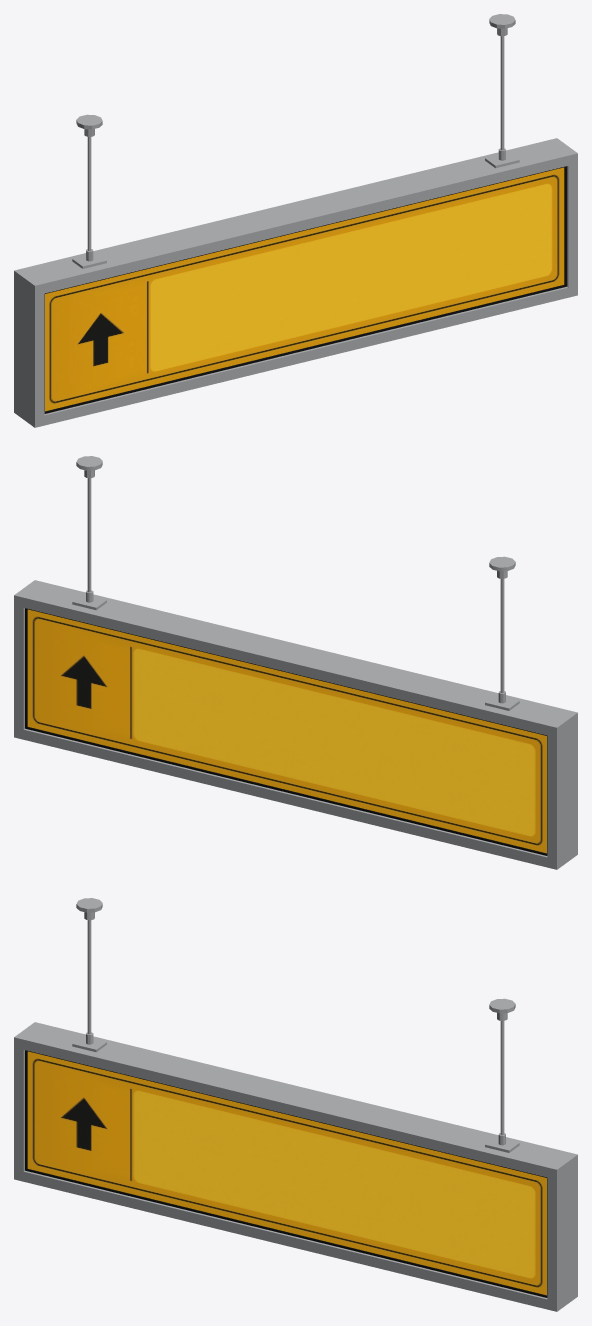
File: gteki_sign_hanging_exit_yellow_up.glb
3 views of the same model, one above another, from view 1: azimuth 30°, elevation 25°; view 2: azimuth 150°, elevation 25°; view 3: azimuth 330°, elevation 25° (orthographic).
Visible parts, largest first — view 1: VIS_body; view 2: VIS_body; view 3: VIS_body.
Part boxes in pixels (box(x1,y1,x2,y2)): VIS_body: box(14, 14, 577, 427); VIS_body: box(14, 456, 577, 869); VIS_body: box(14, 898, 577, 1311).
Size of the model in its own units: 1.8 by 0.9 by 0.12.
2 materials, 2 textured.
